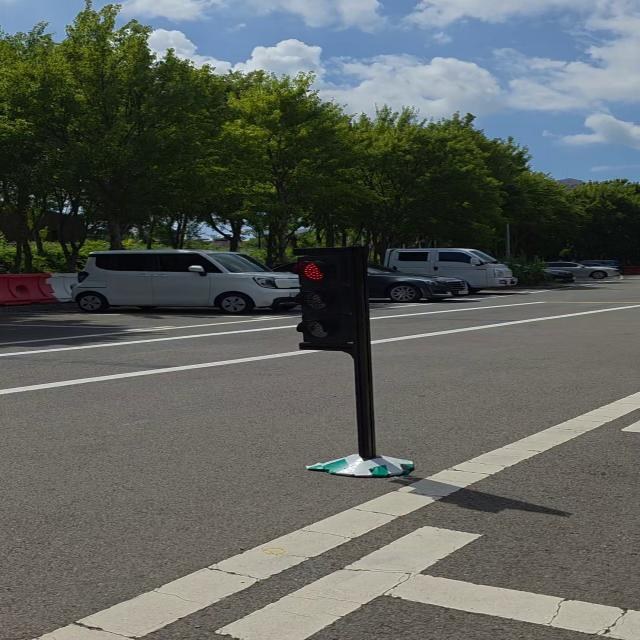red: (294, 248, 364, 351)
